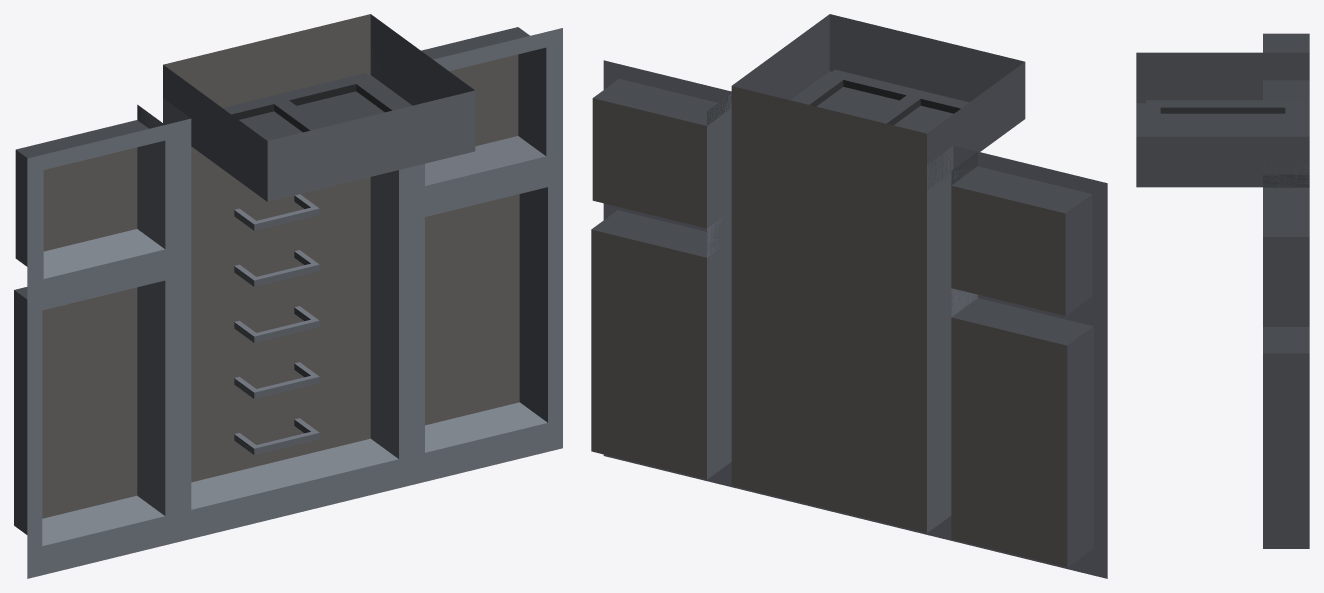
The model's file is AI_Env_Bunker_Wall_Ladder.fbx.
3 renders of one model, left to right at view 1: azimuth 30°, elevation 25°; view 2: azimuth 150°, elevation 25°; view 3: azimuth 270°, elevation 25°, orthographic. The views are drawn at different scales.
Visible parts, largest first — view 1: AI_Env_Bunker_Wall_Ladder; view 2: AI_Env_Bunker_Wall_Ladder; view 3: AI_Env_Bunker_Wall_Ladder.
Part boxes in pixels (x1,y1,x2,y2): AI_Env_Bunker_Wall_Ladder: [14, 14, 562, 578]; AI_Env_Bunker_Wall_Ladder: [591, 14, 1107, 578]; AI_Env_Bunker_Wall_Ladder: [1136, 33, 1309, 548].
Bounding box in the file's own units: 5 × 4.05 × 1.69.
